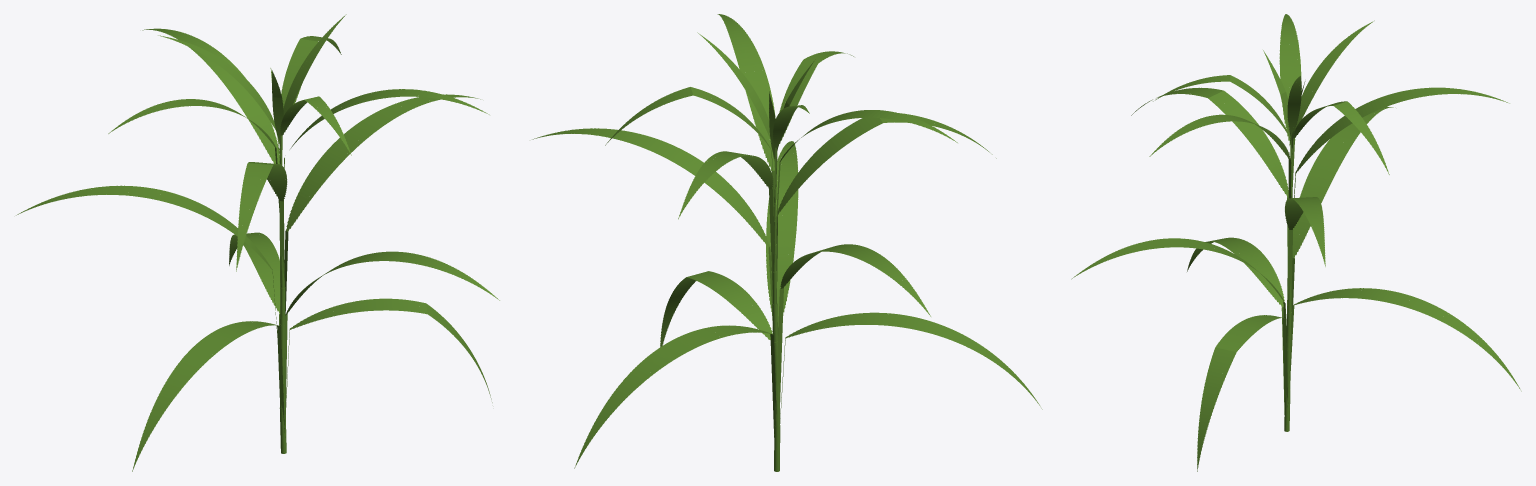
File: maize_003_day_095.dae
The picture shows the model from 3 angles, left to right: view 1: azimuth 30°, elevation 25°; view 2: azimuth 150°, elevation 25°; view 3: azimuth 270°, elevation 25°; orthographic projection. The views are drawn at different scales.
Parts seen in each view (by area): view 1: node; view 2: node; view 3: node.
Part boxes in pixels (left/top/right/bottom): node: left=16, top=14, right=499, bottom=471; node: left=532, top=14, right=1042, bottom=471; node: left=1071, top=14, right=1521, bottom=471.
Bounding box in the file's own units: 1.66 × 1.53 × 1.61.
Materials: 1 (1 with a texture image).
